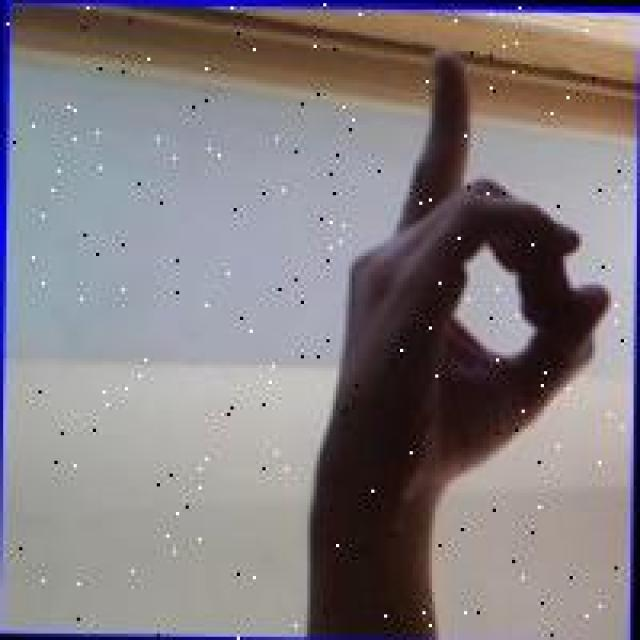D: (326, 40, 621, 514)
